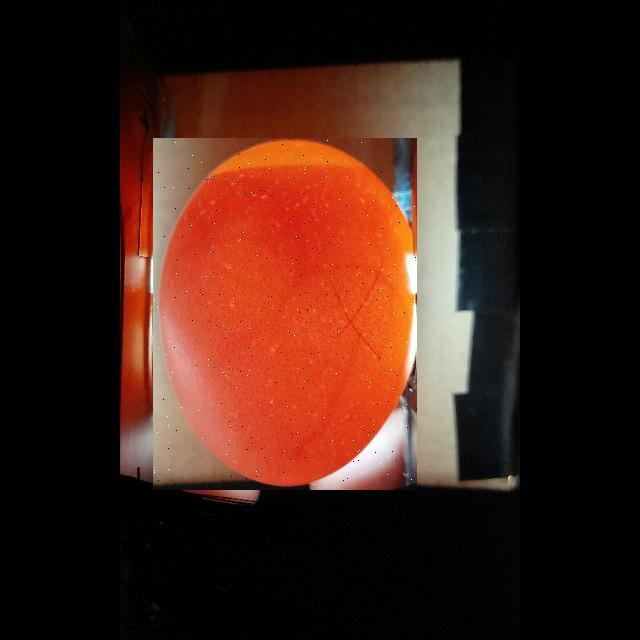Fertile: (153, 138, 417, 490)
